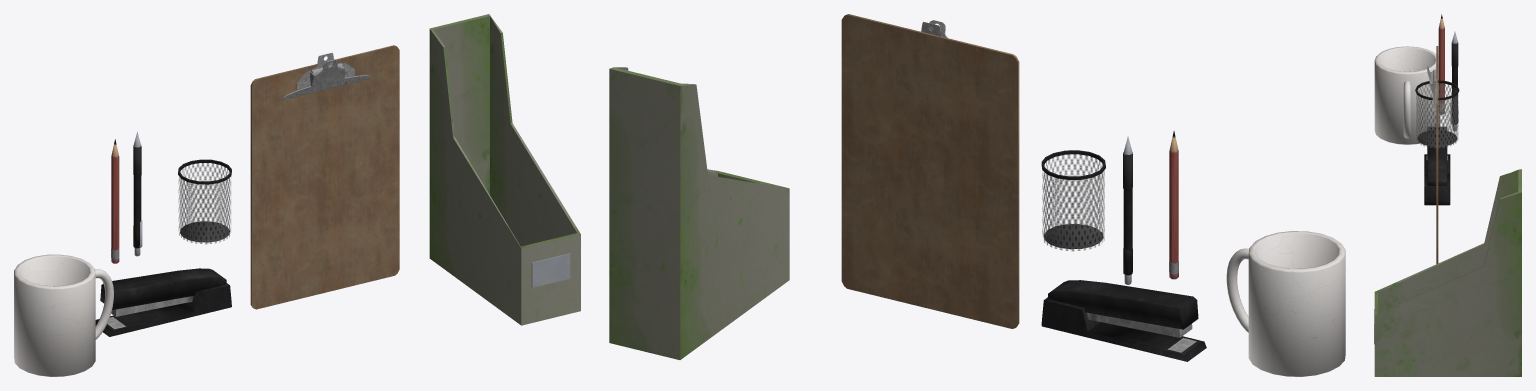
The model's file is office_supplies_pack.glb.
3 views of the same model, side by side, from view 1: azimuth 30°, elevation 25°; view 2: azimuth 150°, elevation 25°; view 3: azimuth 270°, elevation 25° (orthographic). The views are drawn at different scales.
Visible parts, largest first — view 1: Cube_4, Cube.003_6, Cylinder.002_5, Cube.001_2, Cylinder_3, Cone.001_1, Cone_0; view 2: Cube_4, Cube.003_6, Cylinder.002_5, Cube.001_2, Cylinder_3, Cone_0, Cone.001_1; view 3: Cube.003_6, Cylinder.002_5, Cylinder_3, Cube.001_2, Cube_4, Cone.001_1, Cone_0.
Part boxes in pixels (x1,y1,x2,y2): Cube_4: (250, 45, 399, 309); Cube.003_6: (429, 14, 580, 325); Cylinder.002_5: (14, 254, 113, 376); Cube.001_2: (95, 268, 231, 336); Cylinder_3: (178, 159, 231, 244); Cone.001_1: (133, 131, 142, 256); Cone_0: (111, 139, 119, 263); Cube_4: (841, 14, 1019, 328); Cube.003_6: (609, 67, 789, 359); Cylinder.002_5: (1226, 231, 1345, 376); Cube.001_2: (1041, 280, 1206, 361); Cylinder_3: (1041, 150, 1105, 251); Cone_0: (1169, 131, 1178, 279); Cone.001_1: (1123, 136, 1132, 284); Cube.003_6: (1374, 169, 1521, 376); Cylinder.002_5: (1374, 46, 1440, 144); Cylinder_3: (1415, 80, 1459, 148); Cube.001_2: (1424, 126, 1450, 205); Cube_4: (1427, 46, 1438, 263); Cone.001_1: (1450, 31, 1458, 131); Cone_0: (1438, 14, 1445, 114).
Bounding box in the file's own units: 0.8012 × 0.3984 × 0.2363.
1 material, 1 textured.
